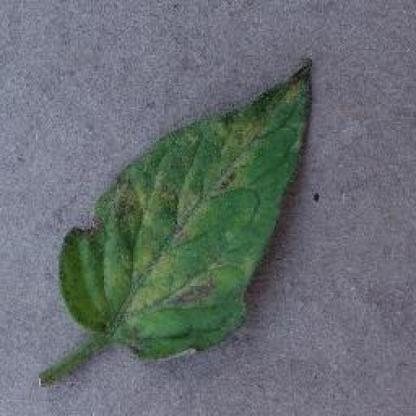Tomato_Leaf_Mold: (59, 58, 312, 362)
